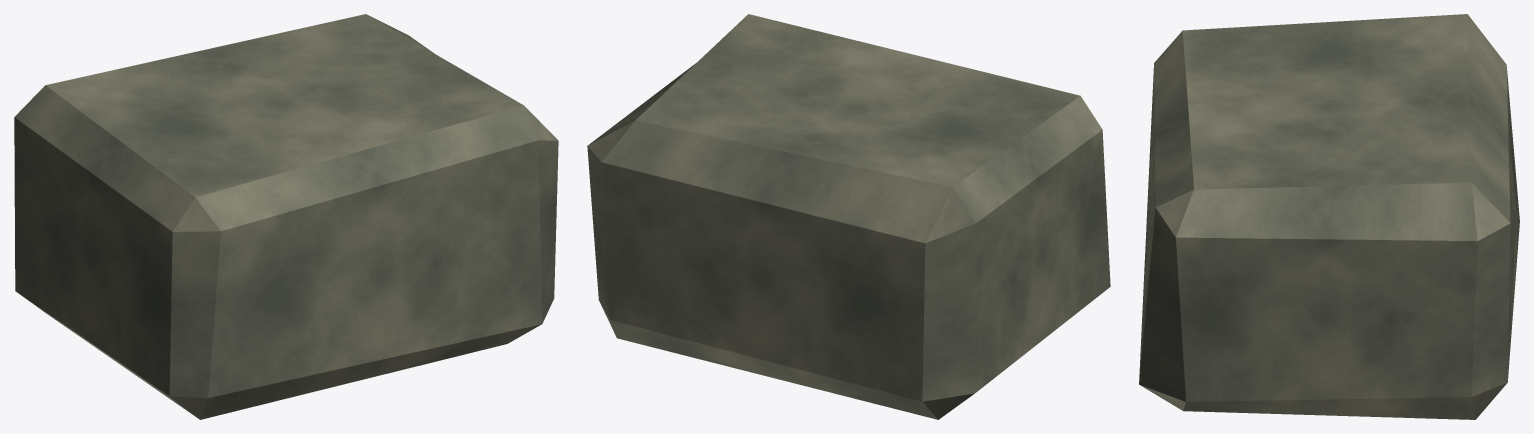
Rendered from concrete-foot-IKhxS_xW.glb.
3 views of the same model, side by side, from view 1: azimuth 30°, elevation 25°; view 2: azimuth 150°, elevation 25°; view 3: azimuth 270°, elevation 25° (orthographic). The views are drawn at different scales.
Visible parts, largest first — view 1: concrete-foot__RV_stone; view 2: concrete-foot__RV_stone; view 3: concrete-foot__RV_stone.
Boxes of the visible parts, x1,y1,x2,y2 form: concrete-foot__RV_stone: (14, 14, 558, 419); concrete-foot__RV_stone: (587, 14, 1110, 419); concrete-foot__RV_stone: (1139, 14, 1519, 419).
Bounding box in the file's own units: 1.21 × 0.6832 × 0.9914.
1 material, 1 textured.
